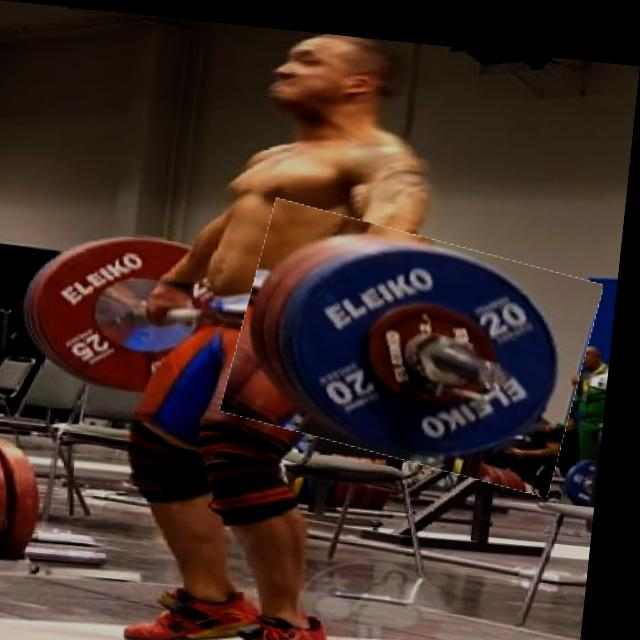barbell: (233, 202, 605, 475)
